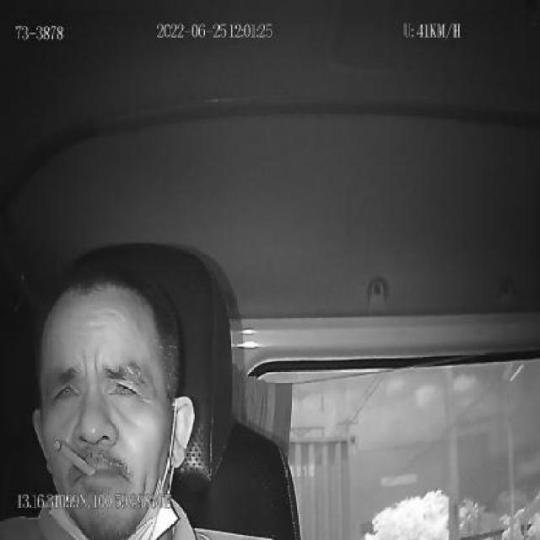smoking: (53, 438, 96, 476)
